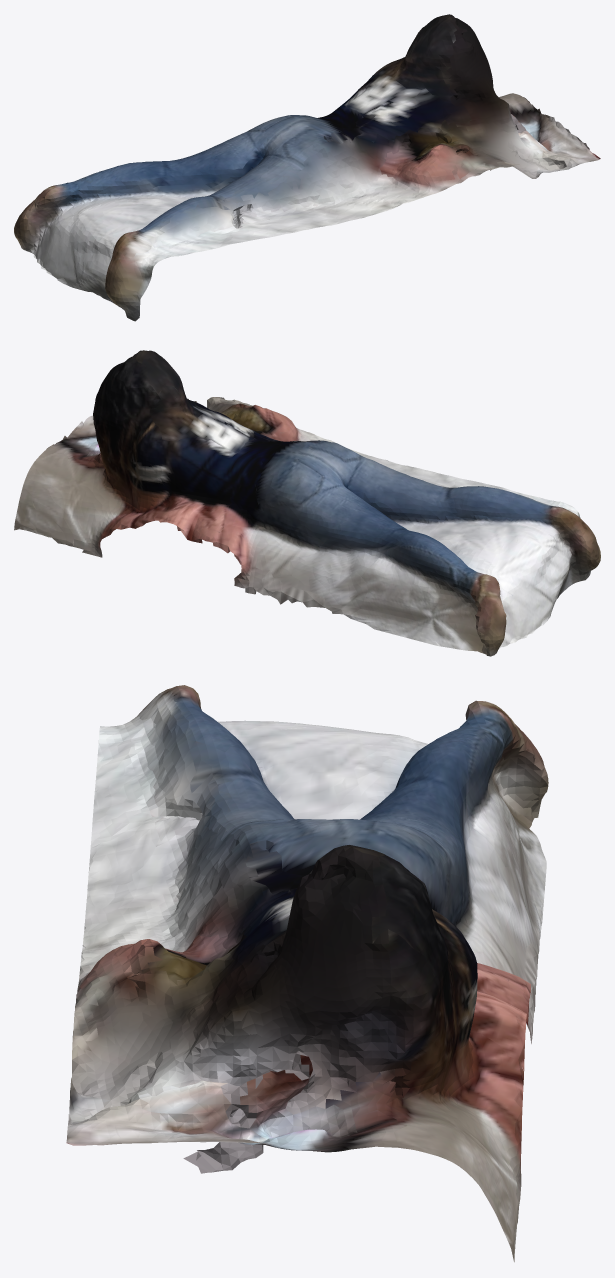
3 renders of one model, top to bottom at view 1: azimuth 30°, elevation 25°; view 2: azimuth 150°, elevation 25°; view 3: azimuth 270°, elevation 25°, orthographic. The views are drawn at different scales.
Bounding box in the file's own units: 1.72 × 0.5854 × 0.7512.
Materials: 1 (1 with a texture image).
